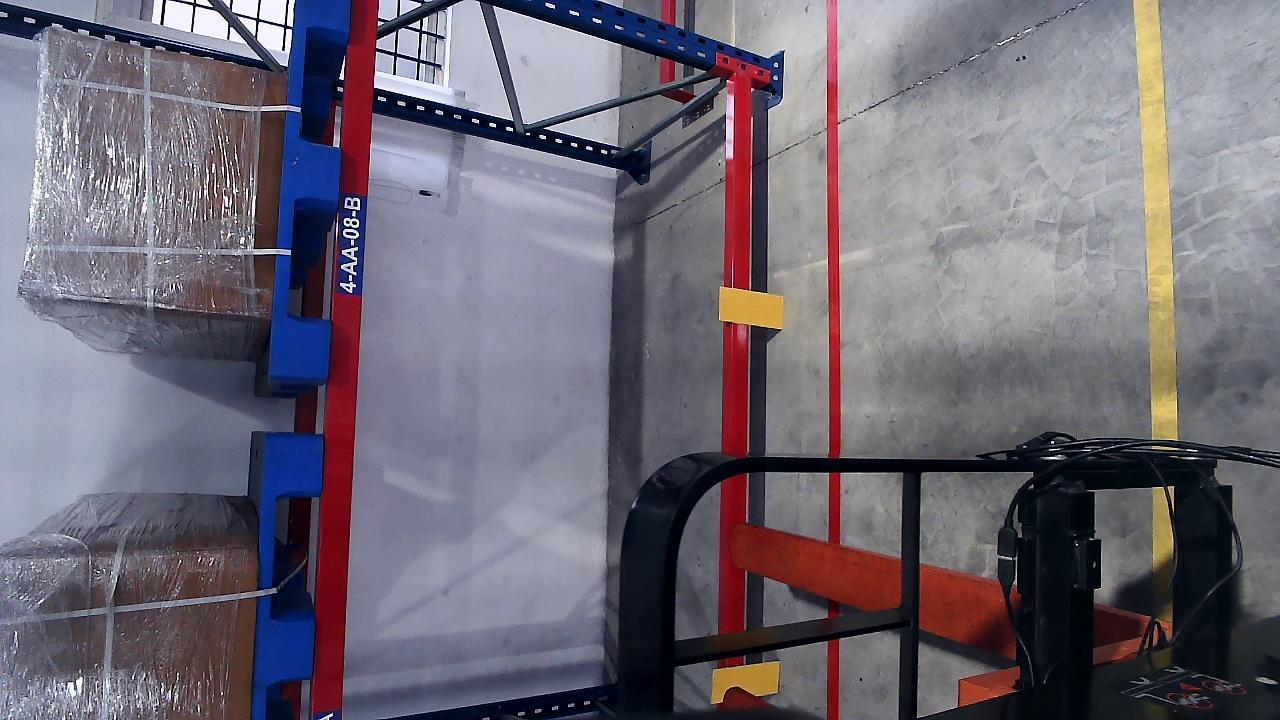red_line: (811, 6, 844, 546)
yellow_line: (1133, 0, 1180, 438)
